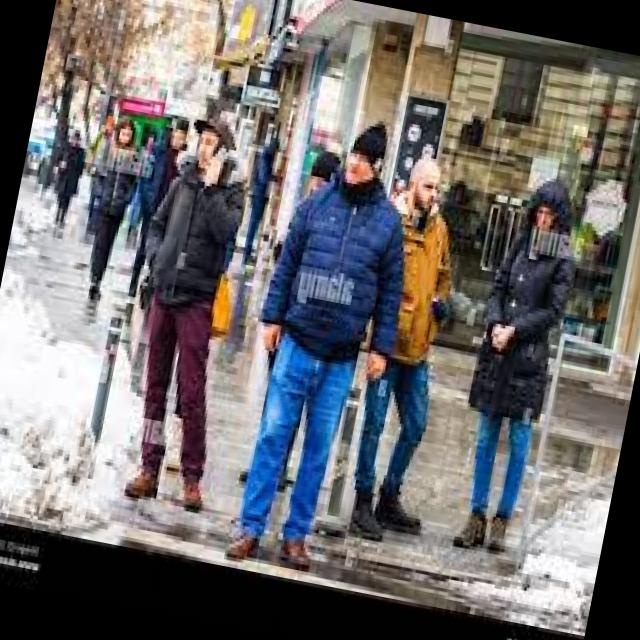Jacket: (248, 167, 414, 395), (460, 218, 588, 438), (128, 154, 258, 328), (360, 196, 471, 380), (78, 139, 146, 243), (44, 138, 88, 212)
